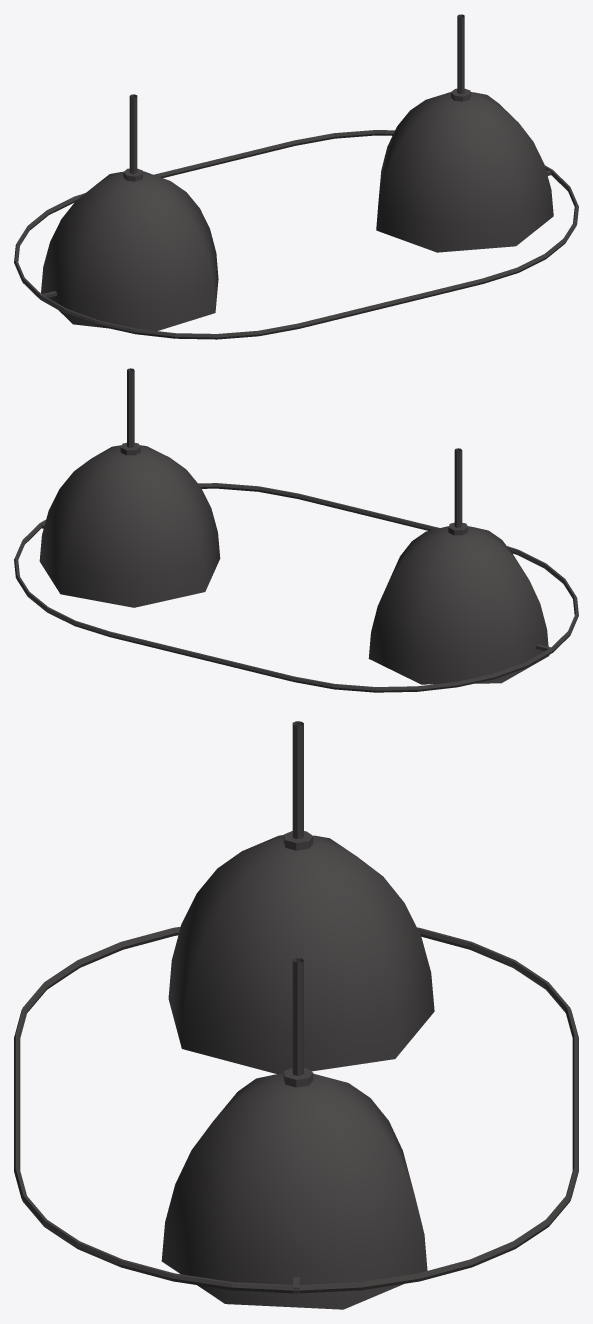
Rendered from Kitchen_HangingLights.FBX.
3 renders of one model, top to bottom at view 1: azimuth 30°, elevation 25°; view 2: azimuth 150°, elevation 25°; view 3: azimuth 270°, elevation 25°, orthographic. The views are drawn at different scales.
Parts seen in each view (by area): view 1: Kitchen_hanging_lights; view 2: Kitchen_hanging_lights; view 3: Kitchen_hanging_lights.
Boxes of the visible parts, box(x1,y1,x2,y2) form: Kitchen_hanging_lights: box(14, 14, 578, 339); Kitchen_hanging_lights: box(14, 368, 578, 692); Kitchen_hanging_lights: box(14, 721, 578, 1309).
Size of the model in its own units: 1.63 by 0.6016 by 1.05.
